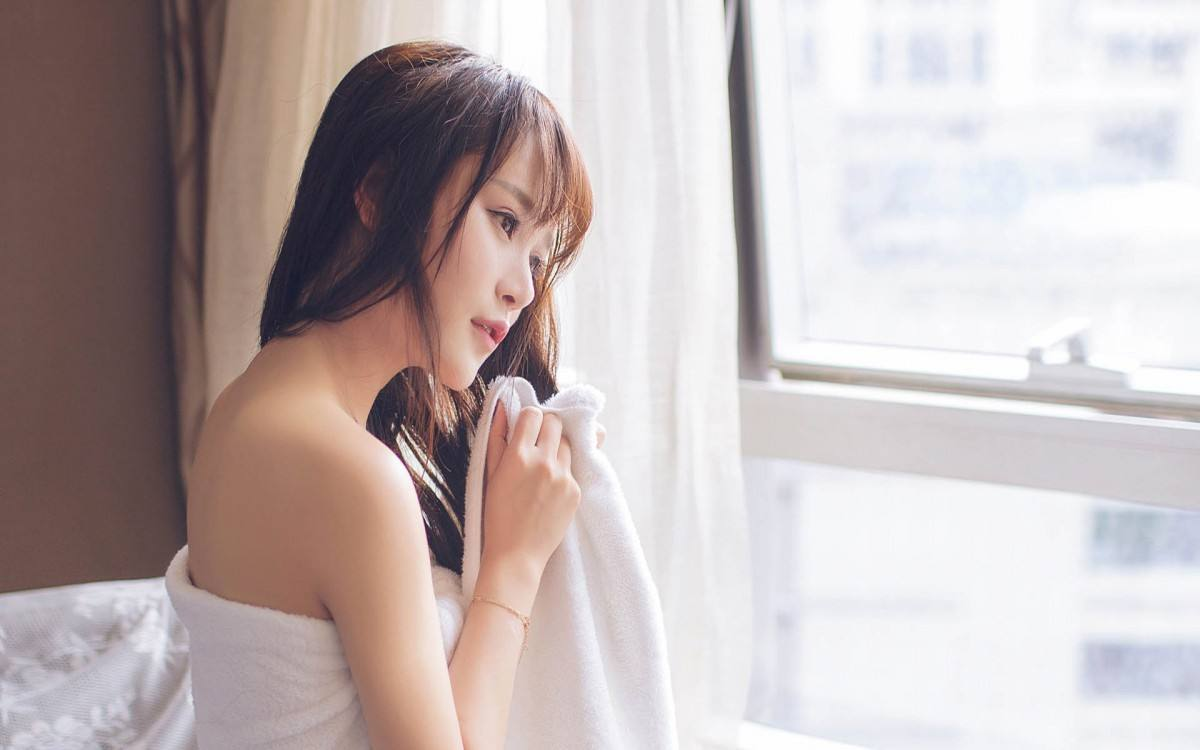person: (136, 54, 665, 669)
